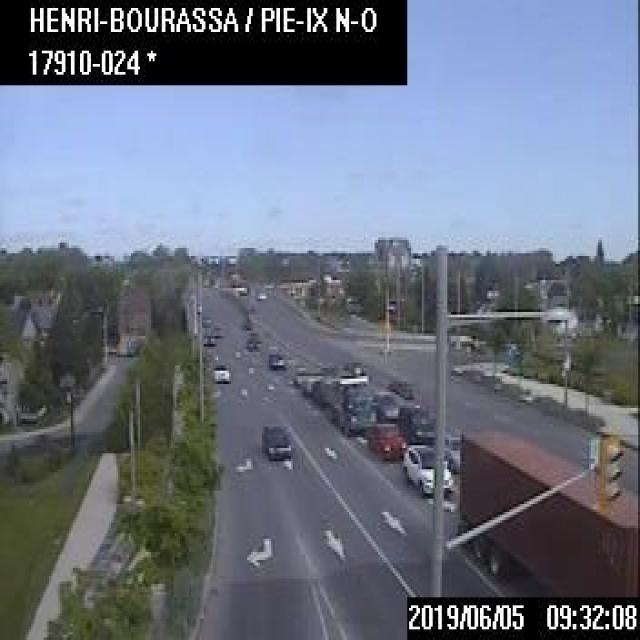vehicle: (458, 429, 638, 592), (320, 378, 374, 434), (402, 442, 452, 493), (397, 402, 433, 442), (365, 422, 405, 458), (262, 424, 291, 459), (373, 390, 398, 420), (444, 432, 459, 471), (388, 376, 412, 397), (344, 360, 366, 375), (211, 363, 229, 381), (267, 350, 286, 367), (244, 331, 260, 349), (200, 328, 215, 344), (212, 324, 222, 335), (201, 314, 210, 326), (256, 288, 266, 298)
